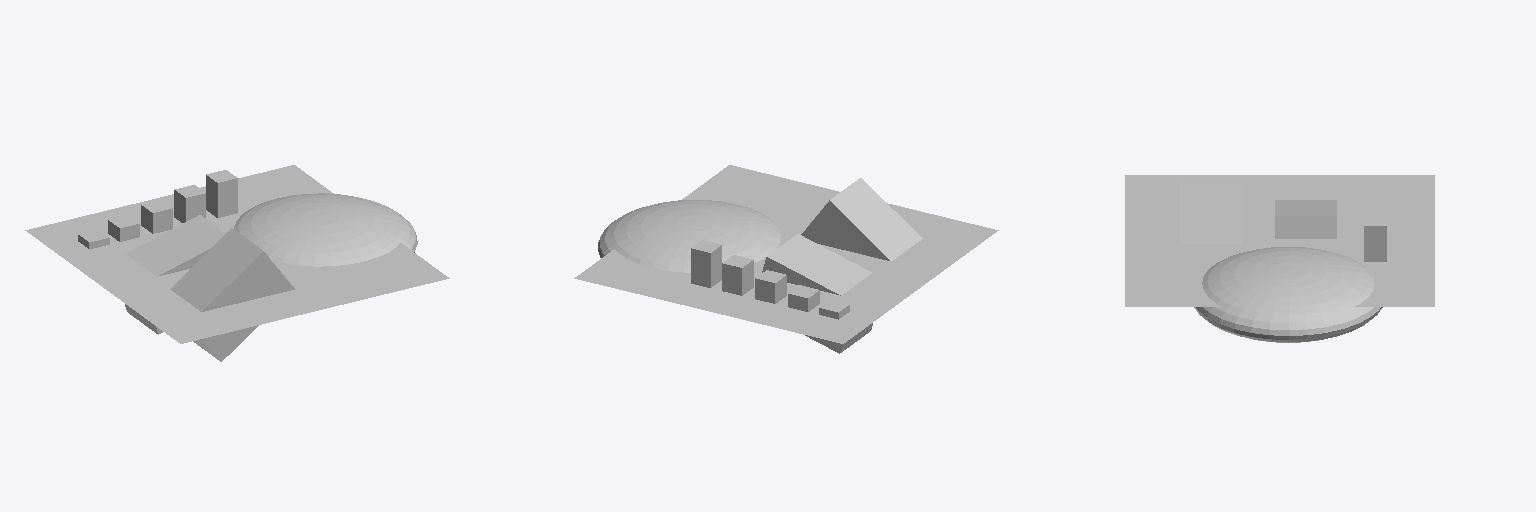
The model's file is Bebe level test.obj.
3 views of the same model, side by side, from view 1: azimuth 30°, elevation 25°; view 2: azimuth 150°, elevation 25°; view 3: azimuth 270°, elevation 25° (orthographic).
Parts seen in each view (by area): view 1: Cube.006; view 2: Cube.006; view 3: Cube.006.
Part boxes in pixels (bbox=[...]): Cube.006: bbox=[25, 165, 449, 361]; Cube.006: bbox=[574, 165, 998, 353]; Cube.006: bbox=[1125, 175, 1434, 342].
Bounding box in the file's own units: 4.55 × 1.49 × 4.